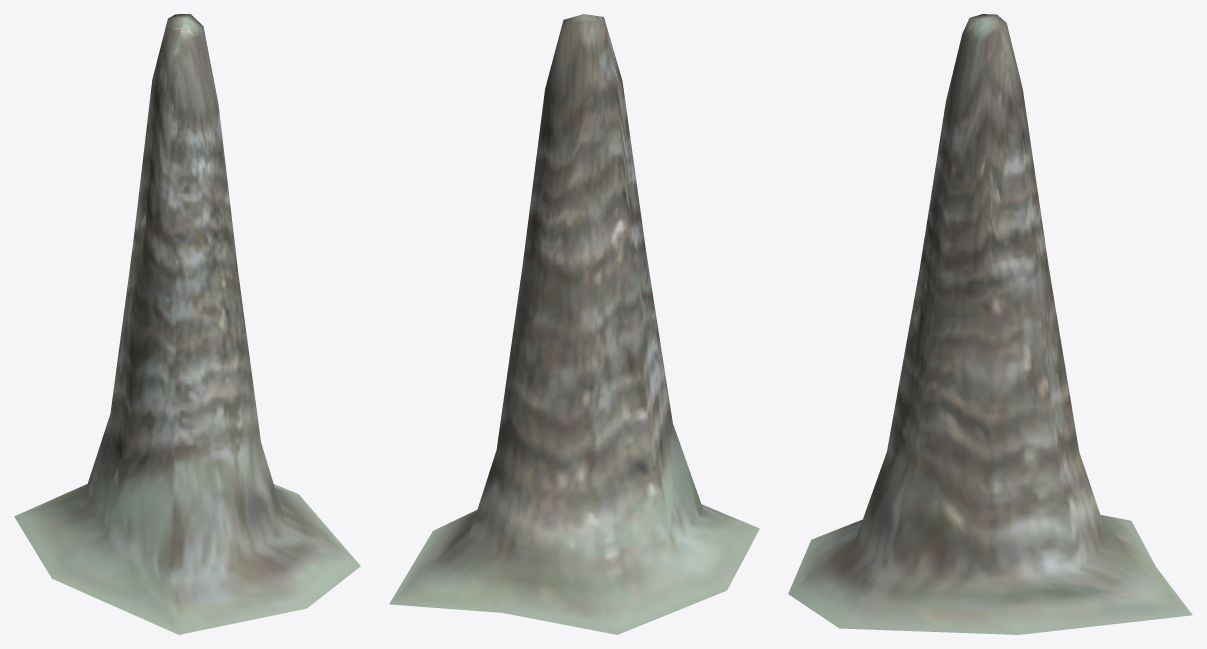
File: TROLLHOLE02_PS-MAINSTALAG41.fbx
3 views of the same model, side by side, from view 1: azimuth 30°, elevation 25°; view 2: azimuth 150°, elevation 25°; view 3: azimuth 270°, elevation 25° (orthographic). The views are drawn at different scales.
Visible parts, largest first — view 1: TROLLHOLE02_PS-MAINSTALAG41; view 2: TROLLHOLE02_PS-MAINSTALAG41; view 3: TROLLHOLE02_PS-MAINSTALAG41.
Part boxes in pixels (left/top/right/bottom): TROLLHOLE02_PS-MAINSTALAG41: left=14, top=14, right=360, bottom=634; TROLLHOLE02_PS-MAINSTALAG41: left=389, top=14, right=759, bottom=634; TROLLHOLE02_PS-MAINSTALAG41: left=788, top=14, right=1192, bottom=634.
Size of the model in its own units: 22559 by 43468 by 28157.
Materials: 1 (1 with a texture image).
